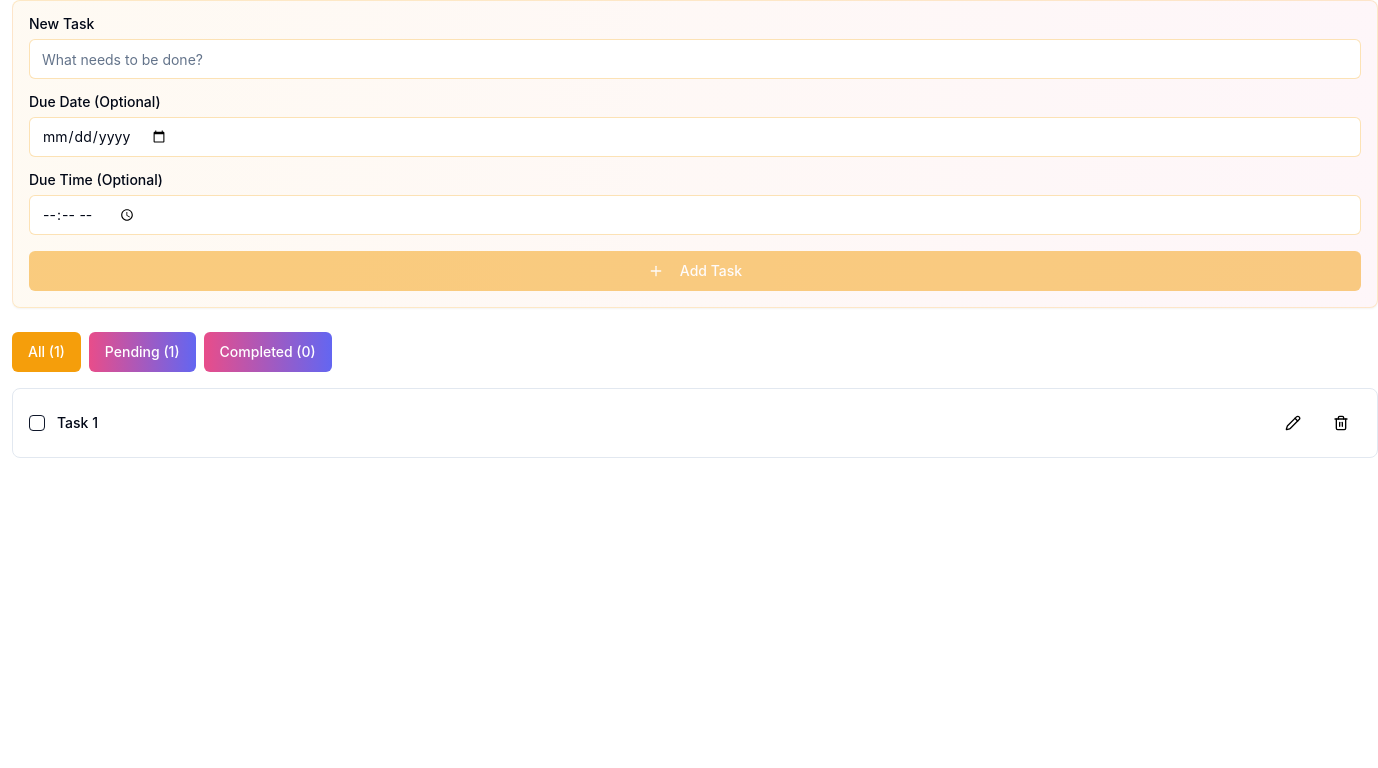
Test: TaskList › shows "No completed tasks" empty state in completed filter
This screenshot has width=1378, height=768.
Click the button "Completed (0)": (268, 352) [204,332,332,372]
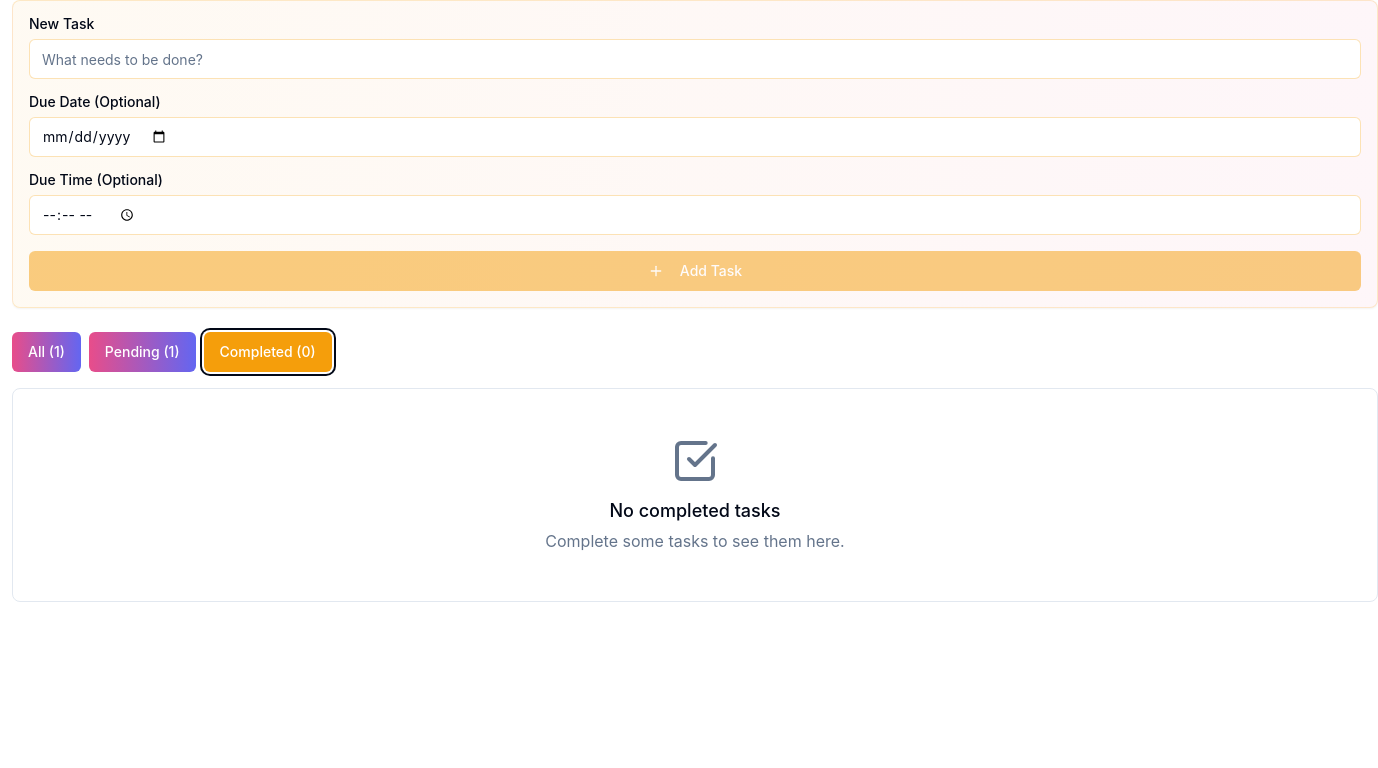
Now the heading "No completed tasks" is shown, box [609,500,780,521]
